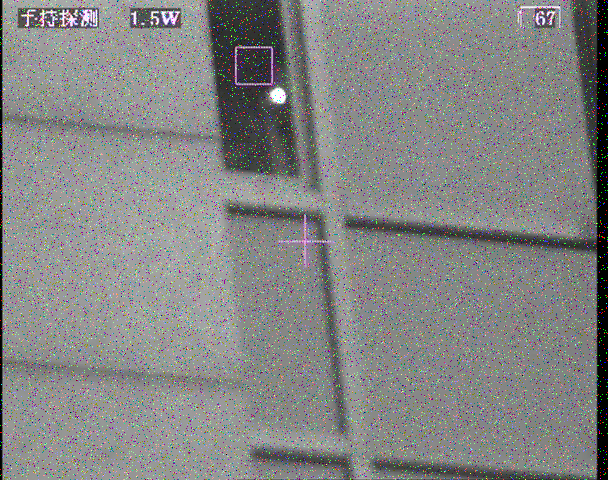my: (269, 85, 287, 104)
